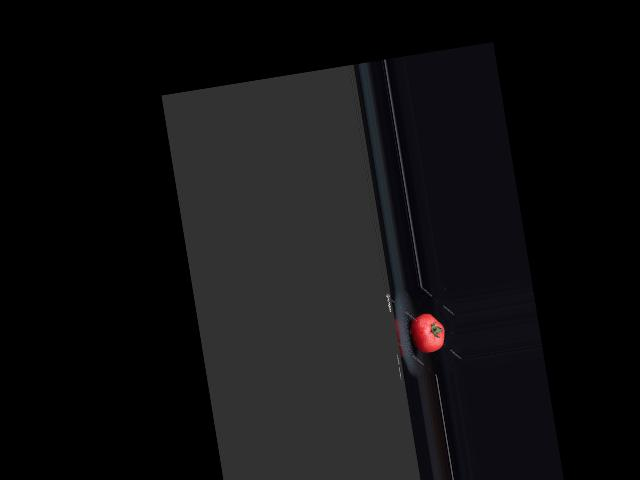tomato: (407, 311, 447, 355)
